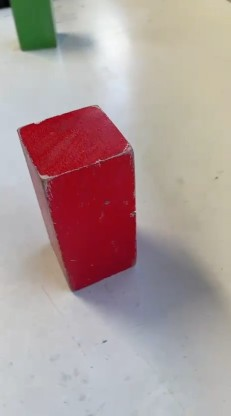red: (43, 115, 142, 280)
